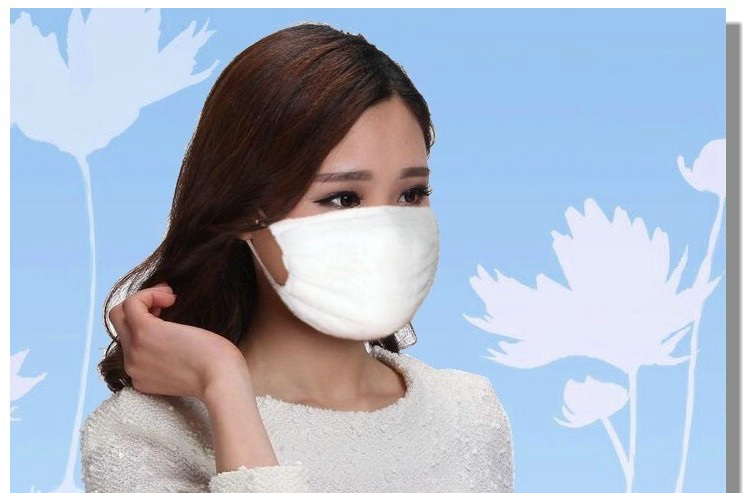face_mask: (273, 109, 441, 341)
